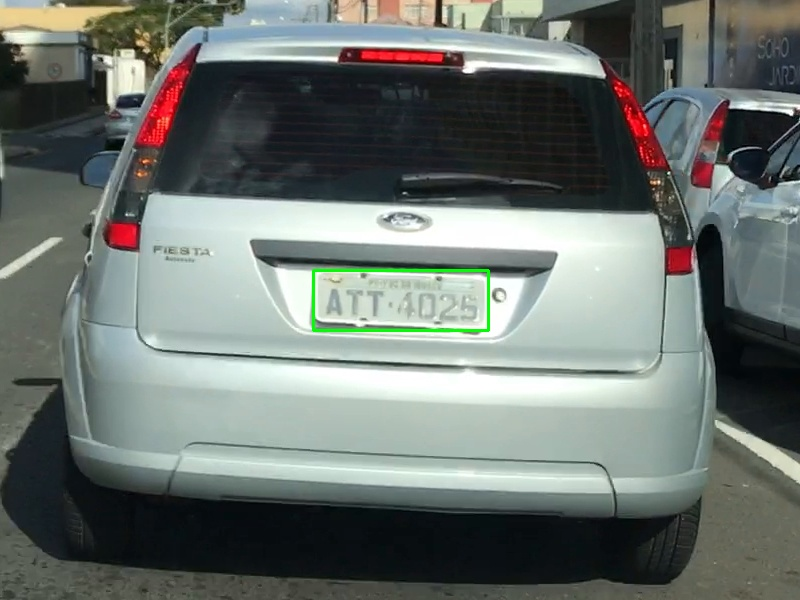placa: (313, 270, 488, 330)
